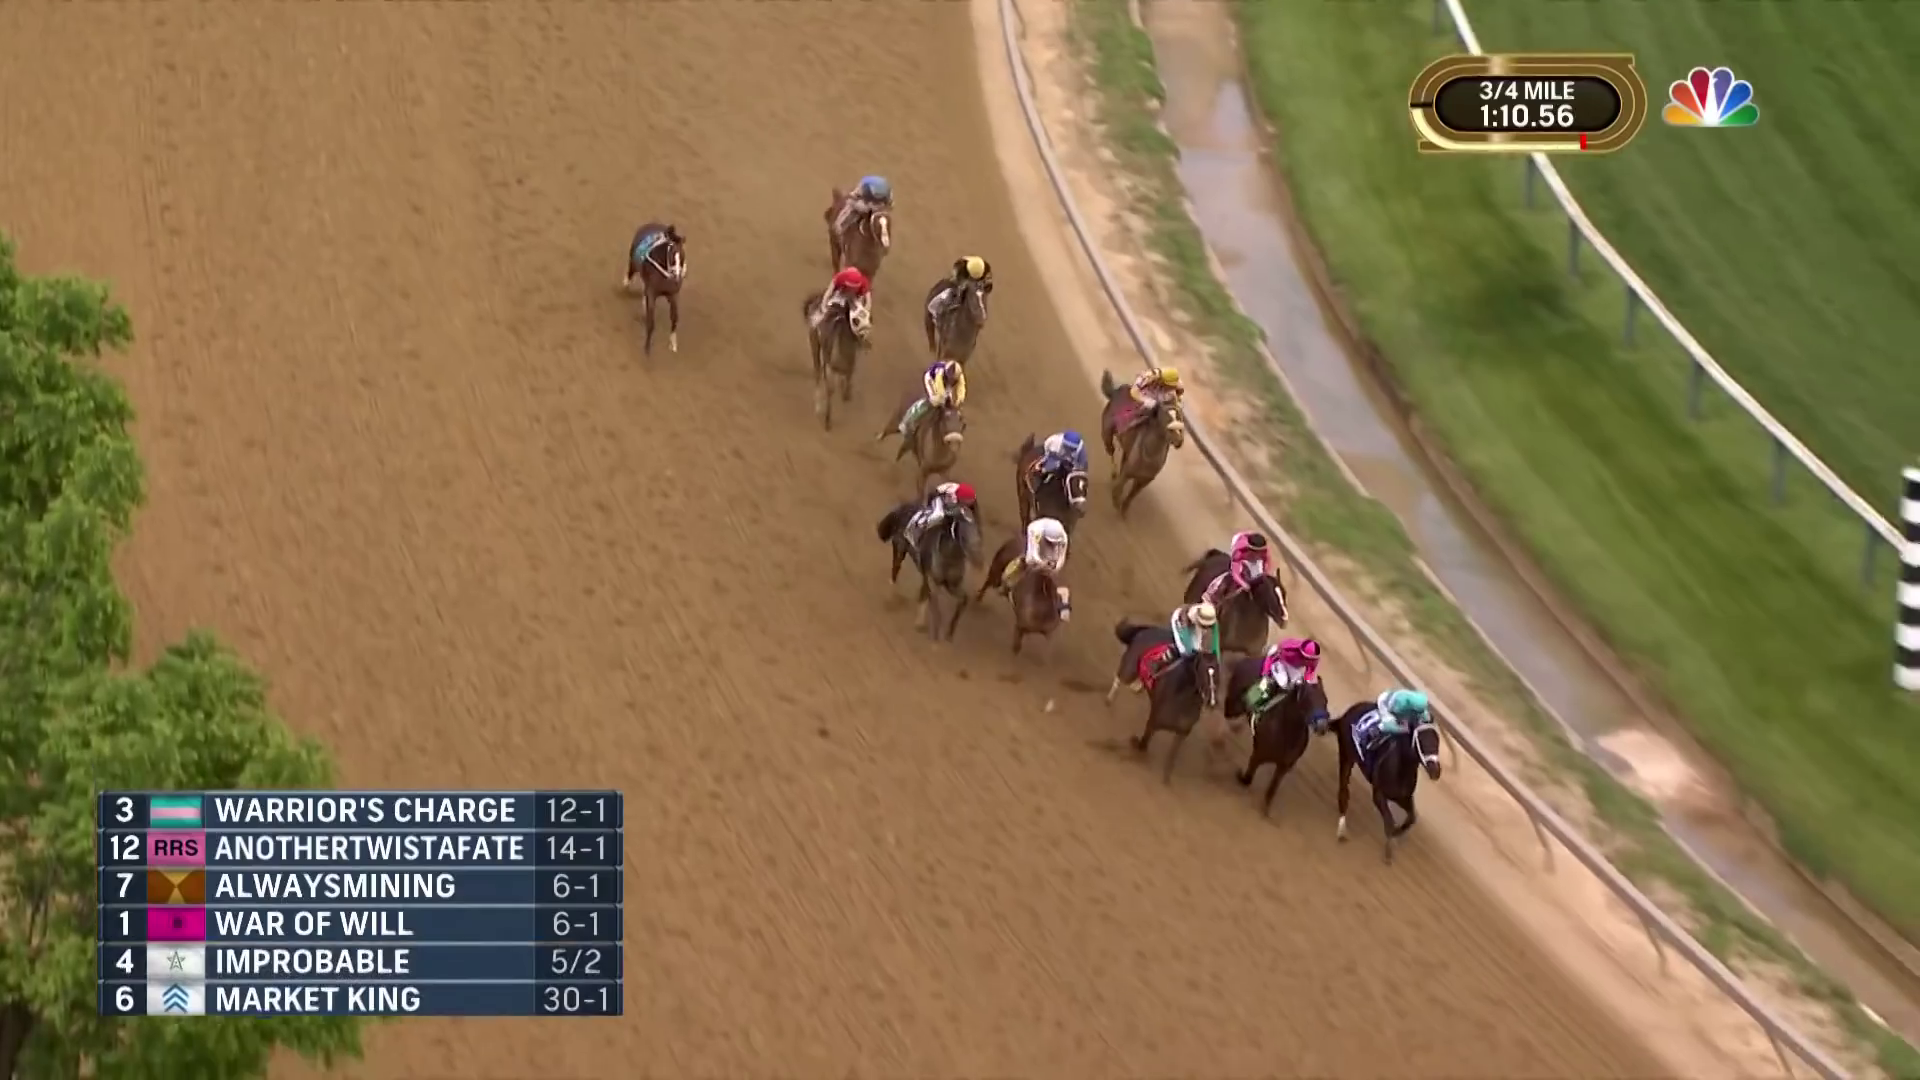jockey: (1253, 636, 1321, 733), (1022, 510, 1071, 585), (1131, 361, 1188, 425), (1222, 527, 1278, 592), (1168, 600, 1222, 666), (920, 484, 978, 543), (837, 175, 898, 232), (1373, 688, 1429, 749), (1040, 429, 1091, 495), (924, 355, 971, 425), (945, 253, 993, 313), (824, 264, 864, 322)
